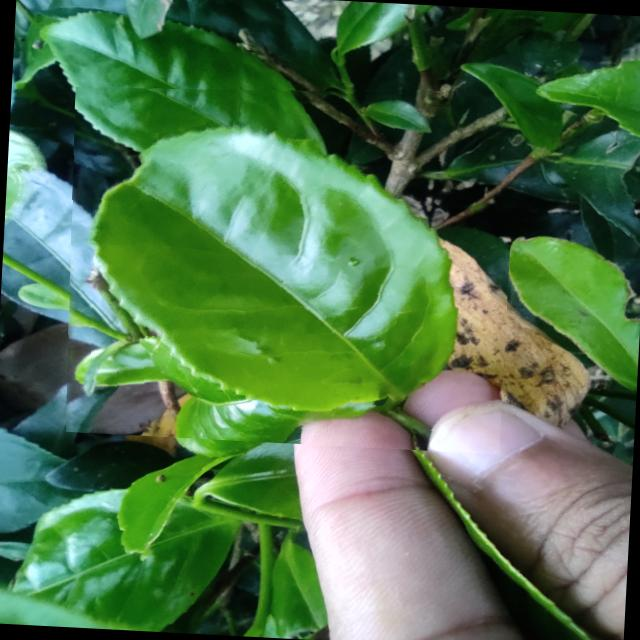Category C(4-7 days): (58, 70, 518, 454)
